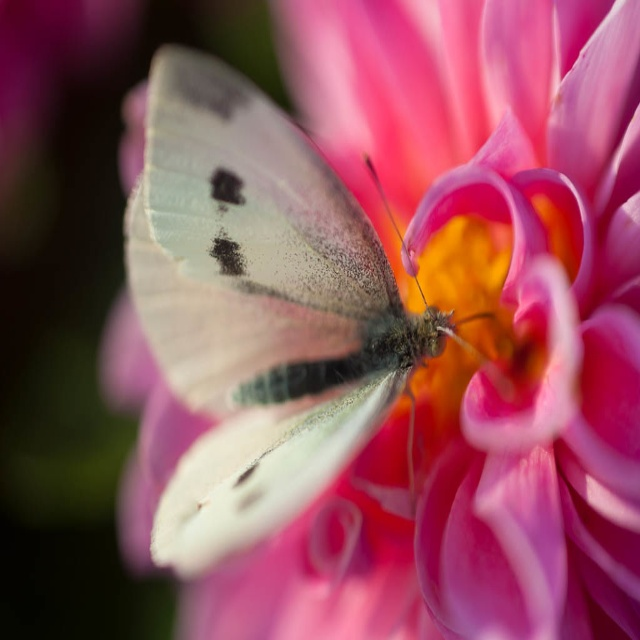Butterfly: (128, 59, 519, 602)
